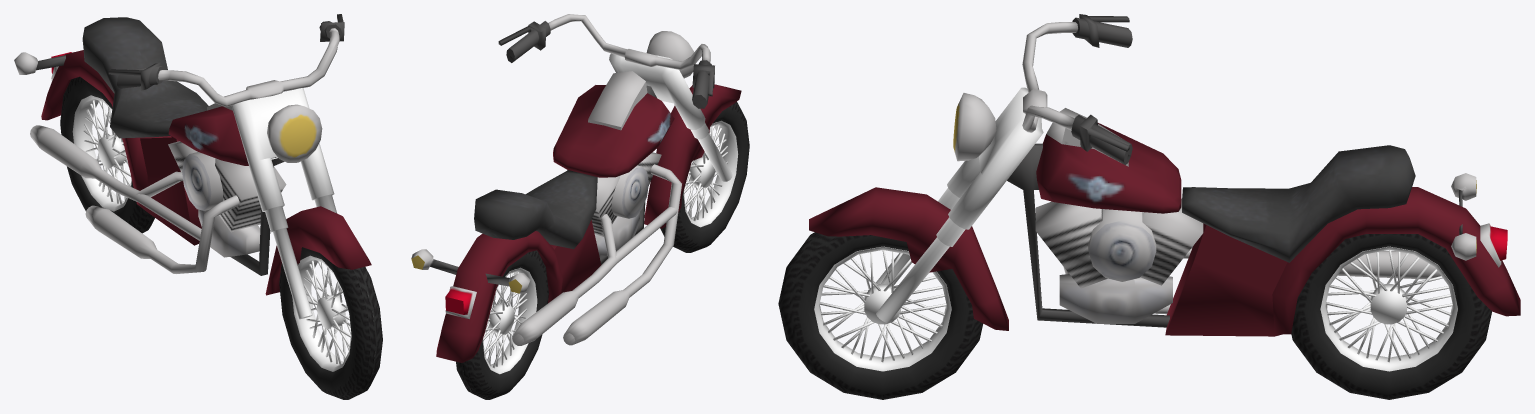
Rendered from lowpoly-motorcycle-for-unity-mobile-game-995a87.glb.
The picture shows the model from 3 angles, left to right: view 1: azimuth 30°, elevation 25°; view 2: azimuth 150°, elevation 25°; view 3: azimuth 270°, elevation 25°; orthographic projection. The views are drawn at different scales.
Visible parts, largest first — view 1: PropMesh; view 2: PropMesh; view 3: PropMesh.
Part boxes in pixels (x1,y1,x2,y2): PropMesh: [14, 14, 382, 399]; PropMesh: [411, 14, 749, 399]; PropMesh: [778, 14, 1520, 399].
Bounding box in the file's own units: 0.9229 × 1.09 × 2.2.
Materials: 4 (3 with a texture image).
